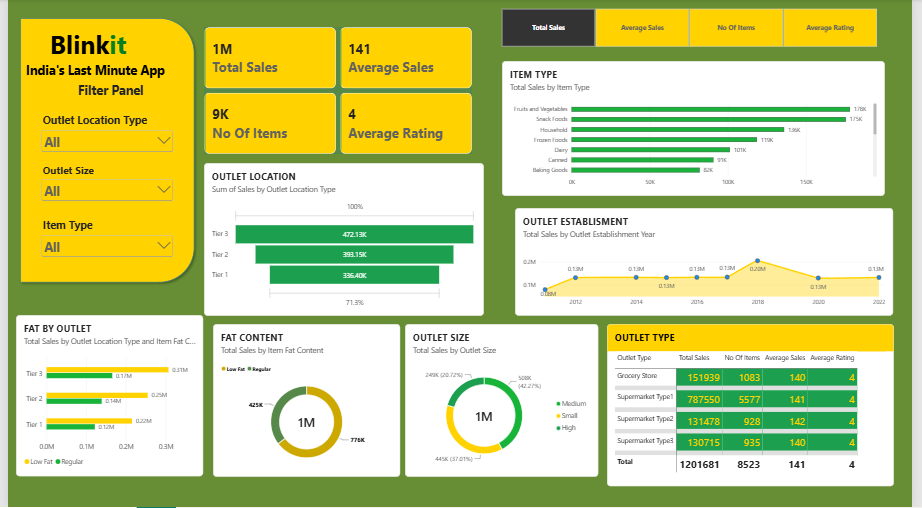

This screenshot's page, from the dashboard's own definition file:
{"tool":"powerbi","page":{"name":"BLINKIT DASHBAORD","canvas":[1920,1080],"ordinal":0},"visuals":[{"type":"shape","box":[17.6,32.8,388,579.5],"z":0},{"type":"textbox","box":[37.8,60.5,264.6,95.7],"z":1},{"type":"textbox","box":[37.8,131,451,85.7],"z":2},{"type":"cardVisual","fields":{"Data":["BlinkIT Grocery Data.Total Sales","BlinkIT Grocery Data.Average Sales","BlinkIT Grocery Data.No Of Items","BlinkIT Grocery Data.Average Rating"]},"box":[415.7,60.5,570,270],"z":3},{"type":"donutChart","title":"FAT CONTENT","fields":{"Category":["BlinkIT Grocery Data.Item Fat Content"],"Y":["BlinkIT Grocery Data.Total Sales"]},"box":[435.9,690.4,398.1,325],"z":5},{"type":"slicer","fields":{"Values":["Metrics.Metrics"]},"box":[1028,17.6,836.5,85.7],"z":6},{"type":"clusteredBarChart","title":"FAT BY OUTLET","fields":{"Category":["BlinkIT Grocery Data.Outlet Location Type"],"Series":["BlinkIT Grocery Data.Item Fat Content"],"Y":["BlinkIT Grocery Data.Total Sales"]},"box":[17.6,672.8,398.1,342.7],"z":7},{"type":"barChart","title":"ITEM TYPE","fields":{"Category":["BlinkIT Grocery Data.Item Type"],"Y":["BlinkIT Grocery Data.Total Sales"]},"box":[1050.7,131,813.9,287.2],"z":8},{"type":"lineChart","title":"OUTLET ESTABLISMENT","fields":{"Category":["BlinkIT Grocery Data.Outlet Establishment Year"],"Y":["BlinkIT Grocery Data.Total Sales"]},"box":[1078.4,443.5,803.8,229.3],"z":9},{"type":"donutChart","title":"OUTLET SIZE","fields":{"Category":["BlinkIT Grocery Data.Outlet Size"],"Y":["BlinkIT Grocery Data.Total Sales"]},"box":[844.1,690.4,410.7,325],"z":10},{"type":"funnel","title":"OUTLET LOCATION","fields":{"Category":["BlinkIT Grocery Data.Outlet Location Type"],"Y":["Sum(BlinkIT Grocery Data.Sales)"]},"box":[415.7,347.7,594.6,325],"z":11},{"type":"pivotTable","title":"OUTLET TYPE","fields":{"Rows":["BlinkIT Grocery Data.Outlet Type"],"Values":["BlinkIT Grocery Data.Total Sales","BlinkIT Grocery Data.No Of Items","BlinkIT Grocery Data.Average Sales","BlinkIT Grocery Data.Average Rating"]},"box":[1272.4,690.4,609.8,345.2],"z":12},{"type":"slicer","fields":{"Values":["BlinkIT Grocery Data.Outlet Location Type"]},"box":[65.5,241.9,289.8,88.2],"z":13},{"type":"slicer","fields":{"Values":["BlinkIT Grocery Data.Outlet Size"]},"box":[65.5,347.7,289.8,118.4],"z":14},{"type":"slicer","fields":{"Values":["BlinkIT Grocery Data.Item Type"]},"box":[65.5,466.1,289.8,93.2],"z":15},{"type":"textbox","box":[37.8,173.9,367.9,42.8],"z":16}]}

Visuals, with their boxes in screenshot pixels (x1, y1, x2, y2), scaled from the page's 1920x1080 canvas onto the 922x508 screenshot:
shape: [8,15,195,288]
textbox: [18,28,145,73]
textbox: [18,62,235,102]
cardVisual - BlinkIT Grocery Data.Total Sales x BlinkIT Grocery Data.Average Sales: [200,28,473,155]
"FAT CONTENT" donutChart: [209,325,400,478]
slicer - Metrics.Metrics: [494,8,895,49]
"FAT BY OUTLET" clusteredBarChart: [8,316,200,478]
"ITEM TYPE" barChart: [505,62,895,197]
"OUTLET ESTABLISMENT" lineChart: [518,209,904,316]
"OUTLET SIZE" donutChart: [405,325,603,478]
"OUTLET LOCATION" funnel: [200,164,485,316]
"OUTLET TYPE" pivotTable: [611,325,904,487]
slicer - BlinkIT Grocery Data.Outlet Location Type: [31,114,171,155]
slicer - BlinkIT Grocery Data.Outlet Size: [31,164,171,219]
slicer - BlinkIT Grocery Data.Item Type: [31,219,171,263]
textbox: [18,82,195,102]
